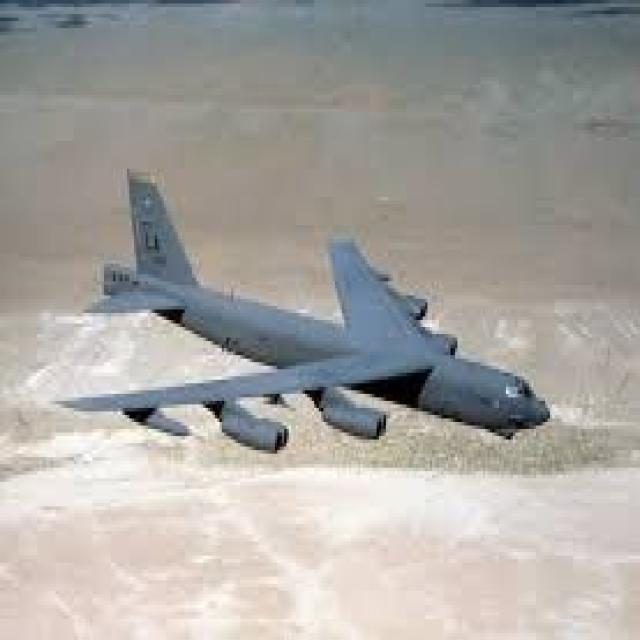B52: (54, 143, 559, 502)
